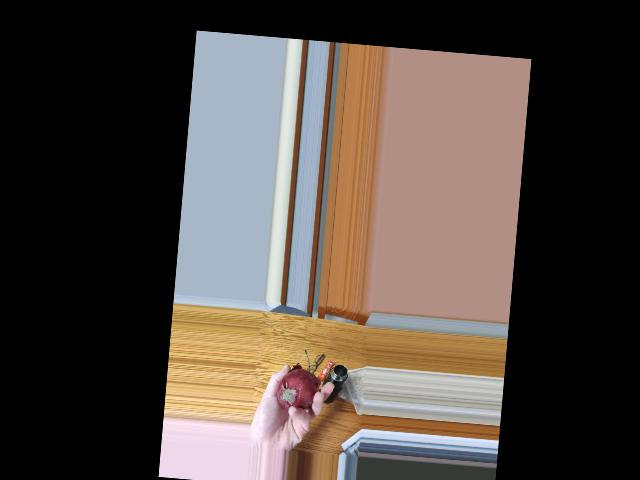onion: (274, 371, 319, 413)
